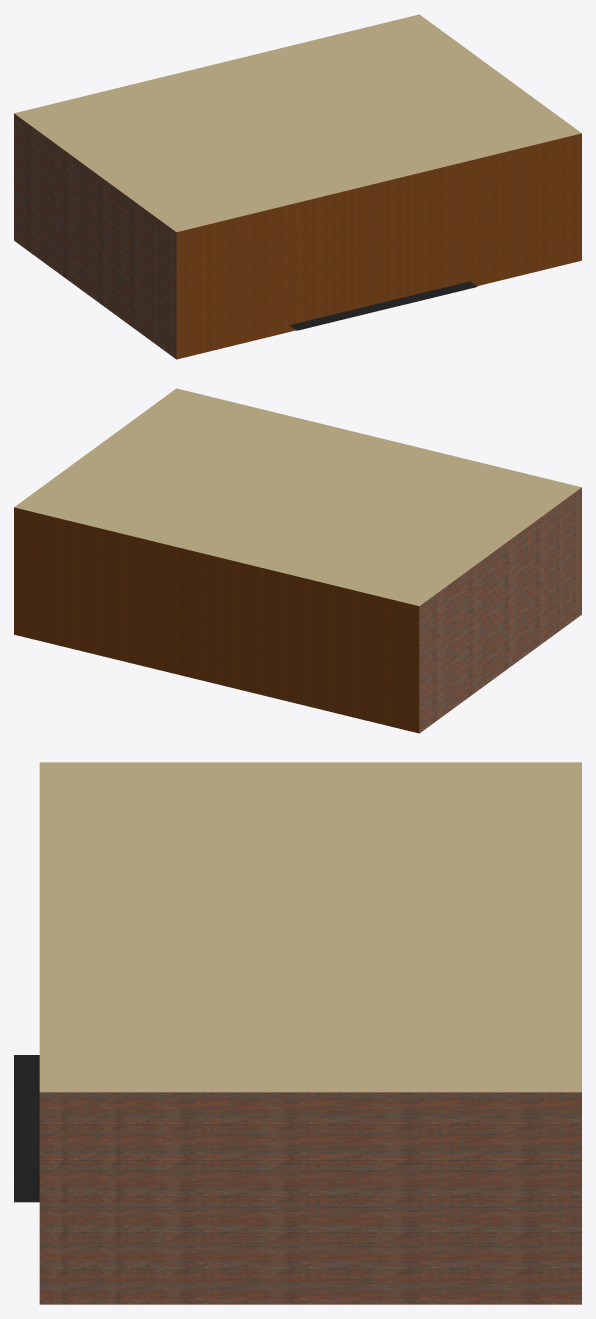
File: TheaterV7.fbx
3 renders of one model, top to bottom at view 1: azimuth 30°, elevation 25°; view 2: azimuth 150°, elevation 25°; view 3: azimuth 270°, elevation 25°, orthographic. The views are drawn at different scales.
Parts seen in each view (by area): view 1: Theater, Stage; view 2: Theater; view 3: Theater, Stage.
Part boxes in pixels (x1,y1,x2,y2): Theater: (14, 14, 581, 359); Stage: (289, 281, 477, 330); Theater: (14, 388, 581, 733); Theater: (39, 762, 581, 1304); Stage: (14, 1055, 39, 1202).
Bounding box in the file's own units: 1524 × 457 × 1108.
